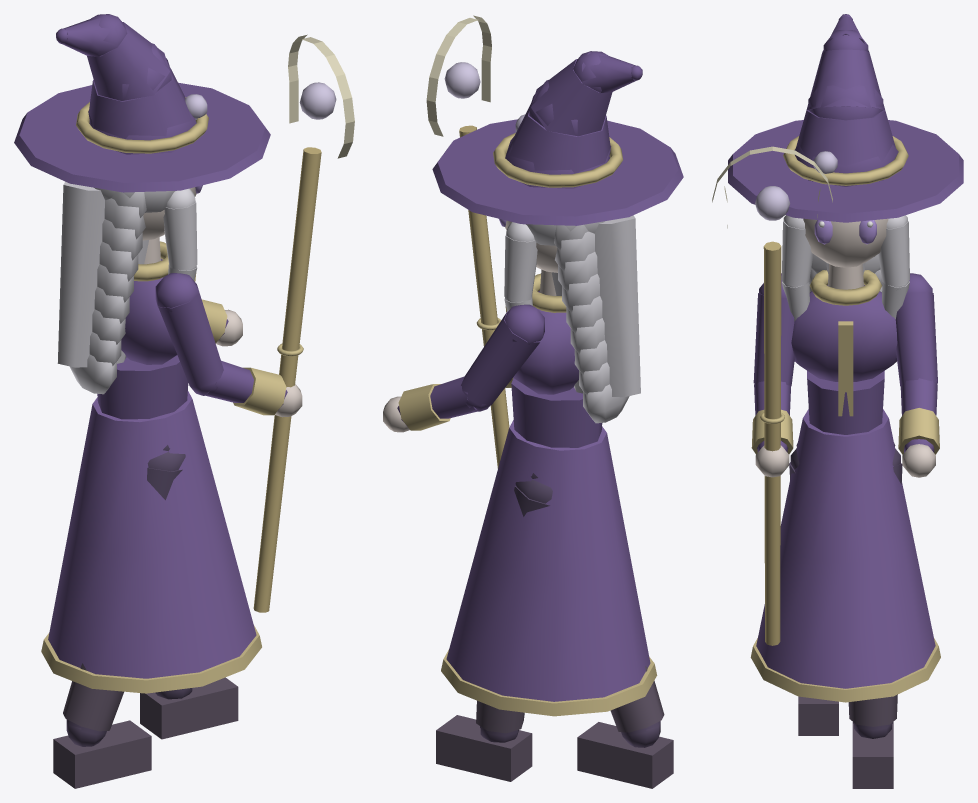
File: ally_4_moon_witch.glb
3 views of the same model, side by side, from view 1: azimuth 30°, elevation 25°; view 2: azimuth 150°, elevation 25°; view 3: azimuth 270°, elevation 25° (orthographic). The views are drawn at different scales.
Visible parts, largest first — view 1: Head, Hips, Weapon, Torso, LegR, ArmR, LegL, ArmL; view 2: Head, Hips, Torso, ArmL, LegL, LegR, Weapon; view 3: Hips, Head, Torso, Weapon, ArmL, ArmR, LegL, LegR.
Boxes of the visible parts, x1=… form: Head: x1=14, y1=14, x2=270, y2=394; Hips: x1=41, y1=391, x2=261, y2=693; Weapon: x1=253, y1=34, x2=354, y2=612; Torso: x1=97, y1=237, x2=196, y2=451; LegR: x1=53, y1=452, x2=185, y2=788; ArmR: x1=155, y1=273, x2=302, y2=417; LegL: x1=140, y1=677, x2=238, y2=739; ArmL: x1=201, y1=299, x2=242, y2=346; Head: x1=432, y1=51, x2=683, y2=423; Hips: x1=441, y1=420, x2=657, y2=716; Torso: x1=505, y1=269, x2=602, y2=478; ArmL: x1=383, y1=304, x2=544, y2=432; LegL: x1=436, y1=479, x2=552, y2=781; LegR: x1=577, y1=666, x2=673, y2=788; Weapon: x1=426, y1=15, x2=509, y2=468; Hips: x1=750, y1=409, x2=940, y2=702; Head: x1=728, y1=14, x2=963, y2=321; Torso: x1=791, y1=264, x2=897, y2=446; Weapon: x1=712, y1=146, x2=832, y2=645; ArmL: x1=895, y1=273, x2=939, y2=477; ArmR: x1=751, y1=273, x2=794, y2=477; LegL: x1=848, y1=448, x2=902, y2=788; LegR: x1=789, y1=448, x2=838, y2=735.
Bounding box in the file's own units: 1.13 × 3.05 × 0.9988.
